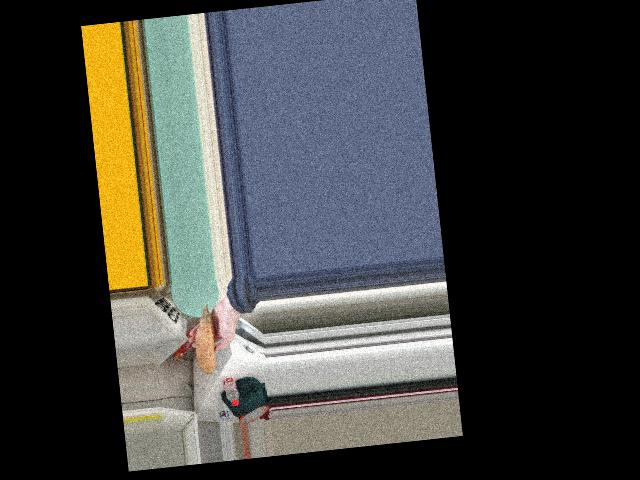sweet_potato: (191, 306, 220, 375)
